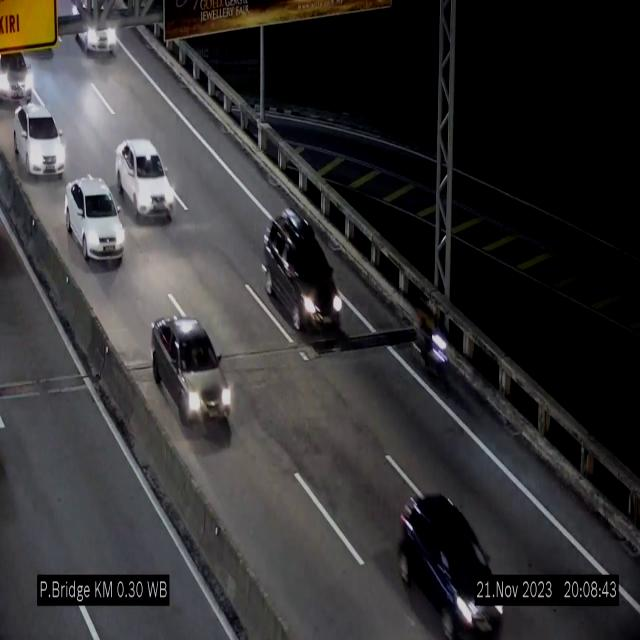Car: (398, 493, 504, 639), (262, 213, 344, 346), (152, 316, 232, 435), (65, 176, 125, 264), (116, 138, 174, 220), (14, 102, 65, 176), (69, 0, 120, 60), (0, 47, 40, 111)
Motorcycle: (416, 291, 450, 393)
